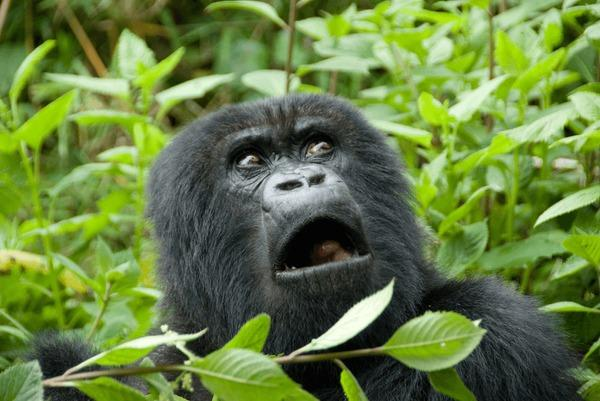goriile_montagne: (127, 73, 585, 401)
